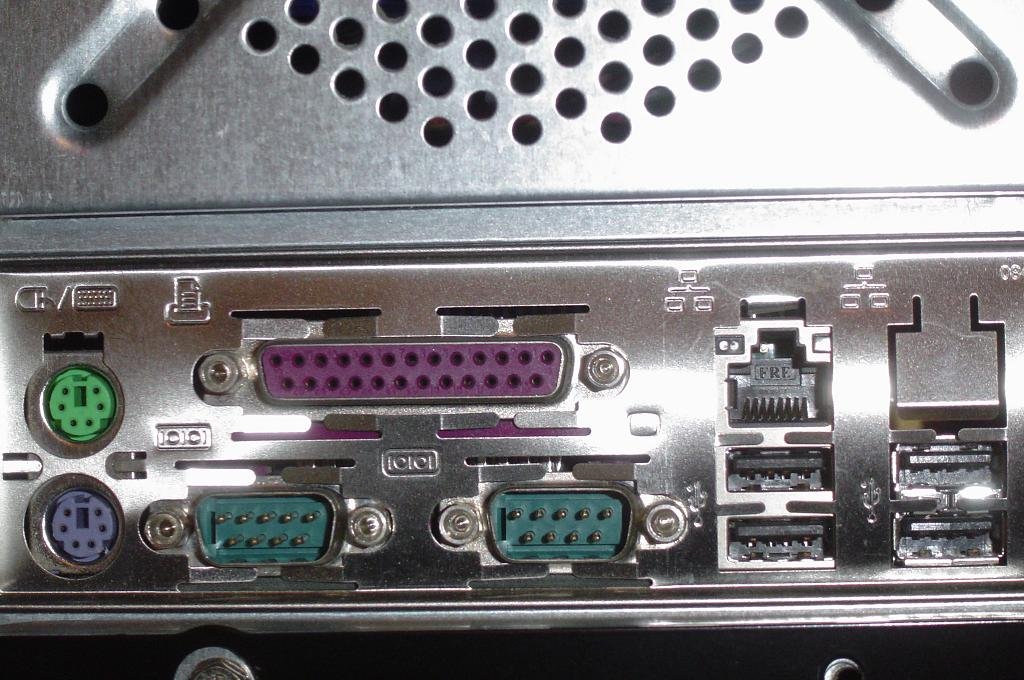Ethernet: (714, 325, 838, 434)
USB: (716, 511, 838, 568), (895, 444, 1006, 496)
